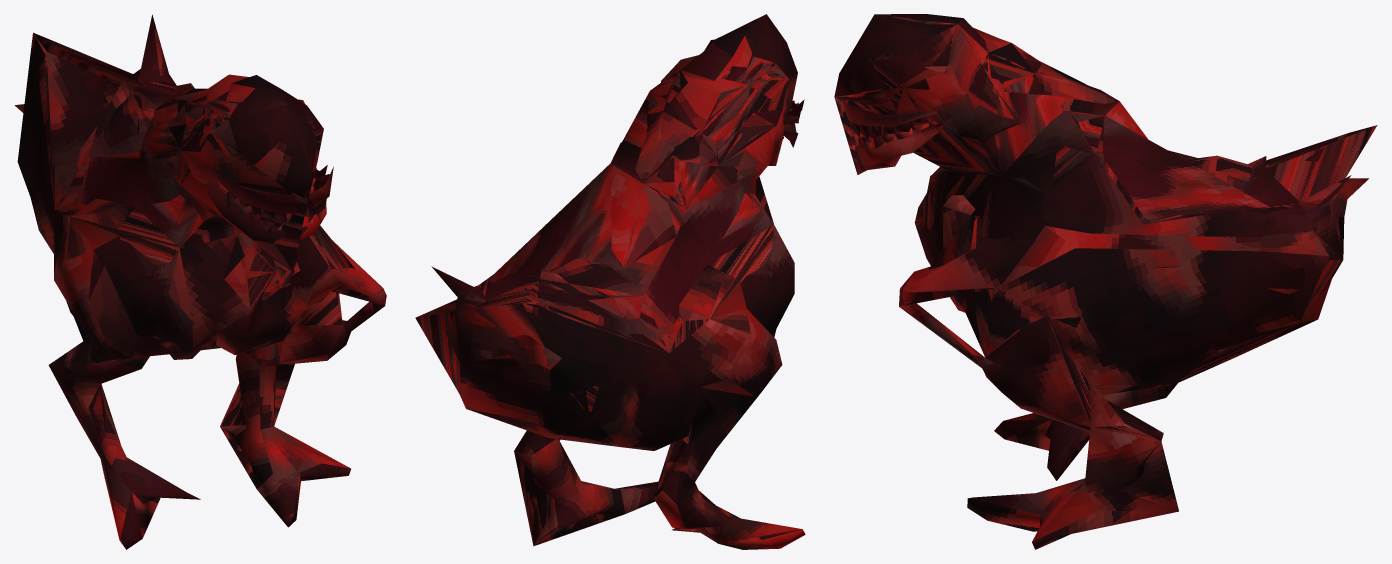
The model's file is item_squishy_chicken_bloody.glb.
The picture shows the model from 3 angles, left to right: view 1: azimuth 30°, elevation 25°; view 2: azimuth 150°, elevation 25°; view 3: azimuth 270°, elevation 25°; orthographic projection. The views are drawn at different scales.
Visible parts, largest first — view 1: toy_chicken; view 2: toy_chicken; view 3: toy_chicken.
Part boxes in pixels (x1,y1,x2,y2): toy_chicken: (14,14,386,549); toy_chicken: (415,14,805,549); toy_chicken: (834,14,1377,549).
Size of the model in its own units: 0.213 by 0.3858 by 0.3987.
1 material, 1 textured.
